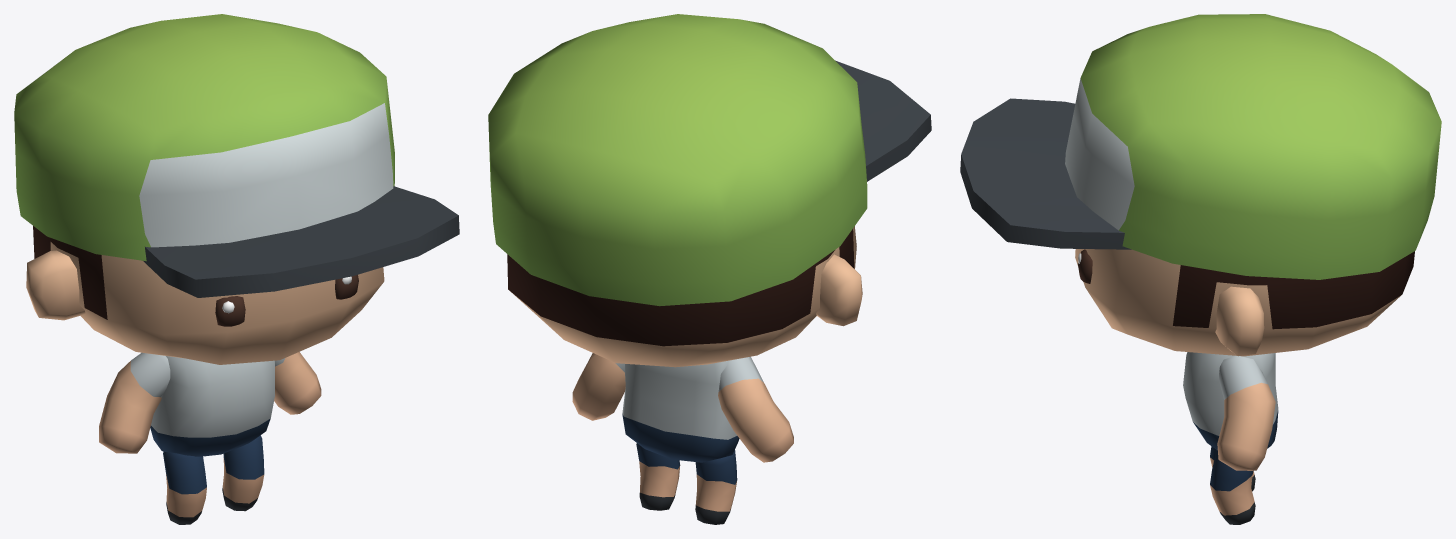
The model's file is idle_0018.obj.
The picture shows the model from 3 angles, left to right: view 1: azimuth 30°, elevation 25°; view 2: azimuth 150°, elevation 25°; view 3: azimuth 270°, elevation 25°; orthographic projection.
Visible parts, largest first — view 1: Object_41, Object_42, Object_36, Object_44, Object_38; view 2: Object_41, Object_44, Object_36, Object_42; view 3: Object_41, Object_36, Object_42, Object_44.
Boxes of the visible parts, left/top/right/bottom form: Object_41: left=14, top=14, right=394, bottom=261; Object_42: left=139, top=103, right=459, bottom=297; Object_36: left=26, top=226, right=384, bottom=364; Object_44: left=99, top=352, right=321, bottom=524; Object_38: left=215, top=274, right=358, bottom=326; Object_41: left=488, top=14, right=867, bottom=306; Object_44: left=572, top=353, right=793, bottom=524; Object_36: left=507, top=226, right=862, bottom=367; Object_42: left=835, top=60, right=931, bottom=181; Object_41: left=1080, top=14, right=1441, bottom=279; Object_36: left=1075, top=249, right=1414, bottom=356; Object_42: left=960, top=78, right=1134, bottom=249; Object_44: left=1183, top=352, right=1278, bottom=524.
Size of the model in its own units: 0.9691 by 1.22 by 1.14.
